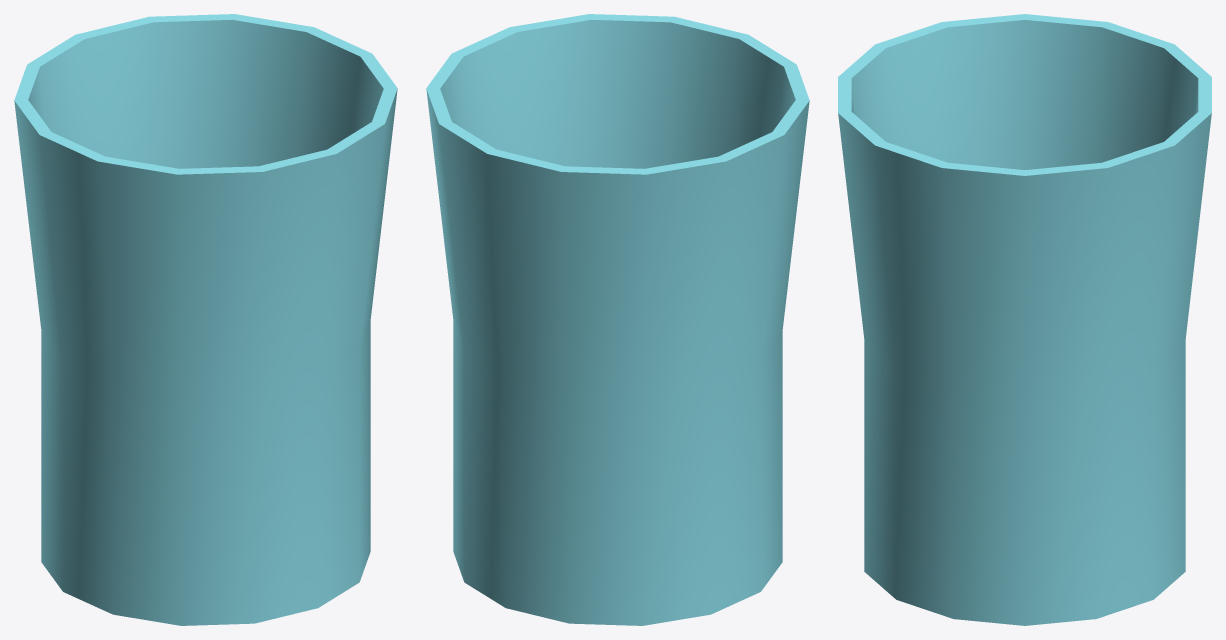
File: glas.FBX
3 renders of one model, left to right at view 1: azimuth 30°, elevation 25°; view 2: azimuth 150°, elevation 25°; view 3: azimuth 270°, elevation 25°, orthographic.
Parts seen in each view (by area): view 1: Cylinder01; view 2: Cylinder01; view 3: Cylinder01.
Boxes of the visible parts, box(x1,y1,x2,y2) form: Cylinder01: box(14, 14, 397, 625); Cylinder01: box(426, 14, 809, 625); Cylinder01: box(838, 14, 1211, 625).
Bounding box in the file's own units: 27.95 × 27.25 × 37.11.
